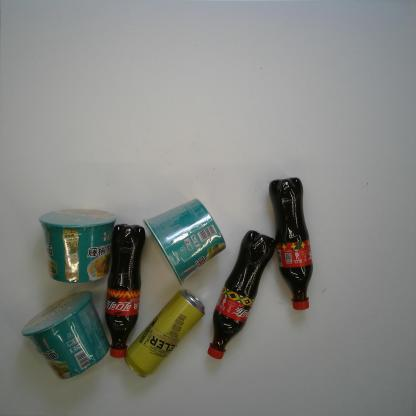Alcohol: (124, 287, 206, 379)
Drink: (205, 229, 278, 361), (99, 222, 148, 360), (268, 176, 315, 312)
Instant Noodles: (21, 288, 111, 381), (141, 196, 227, 289), (36, 207, 118, 286)
